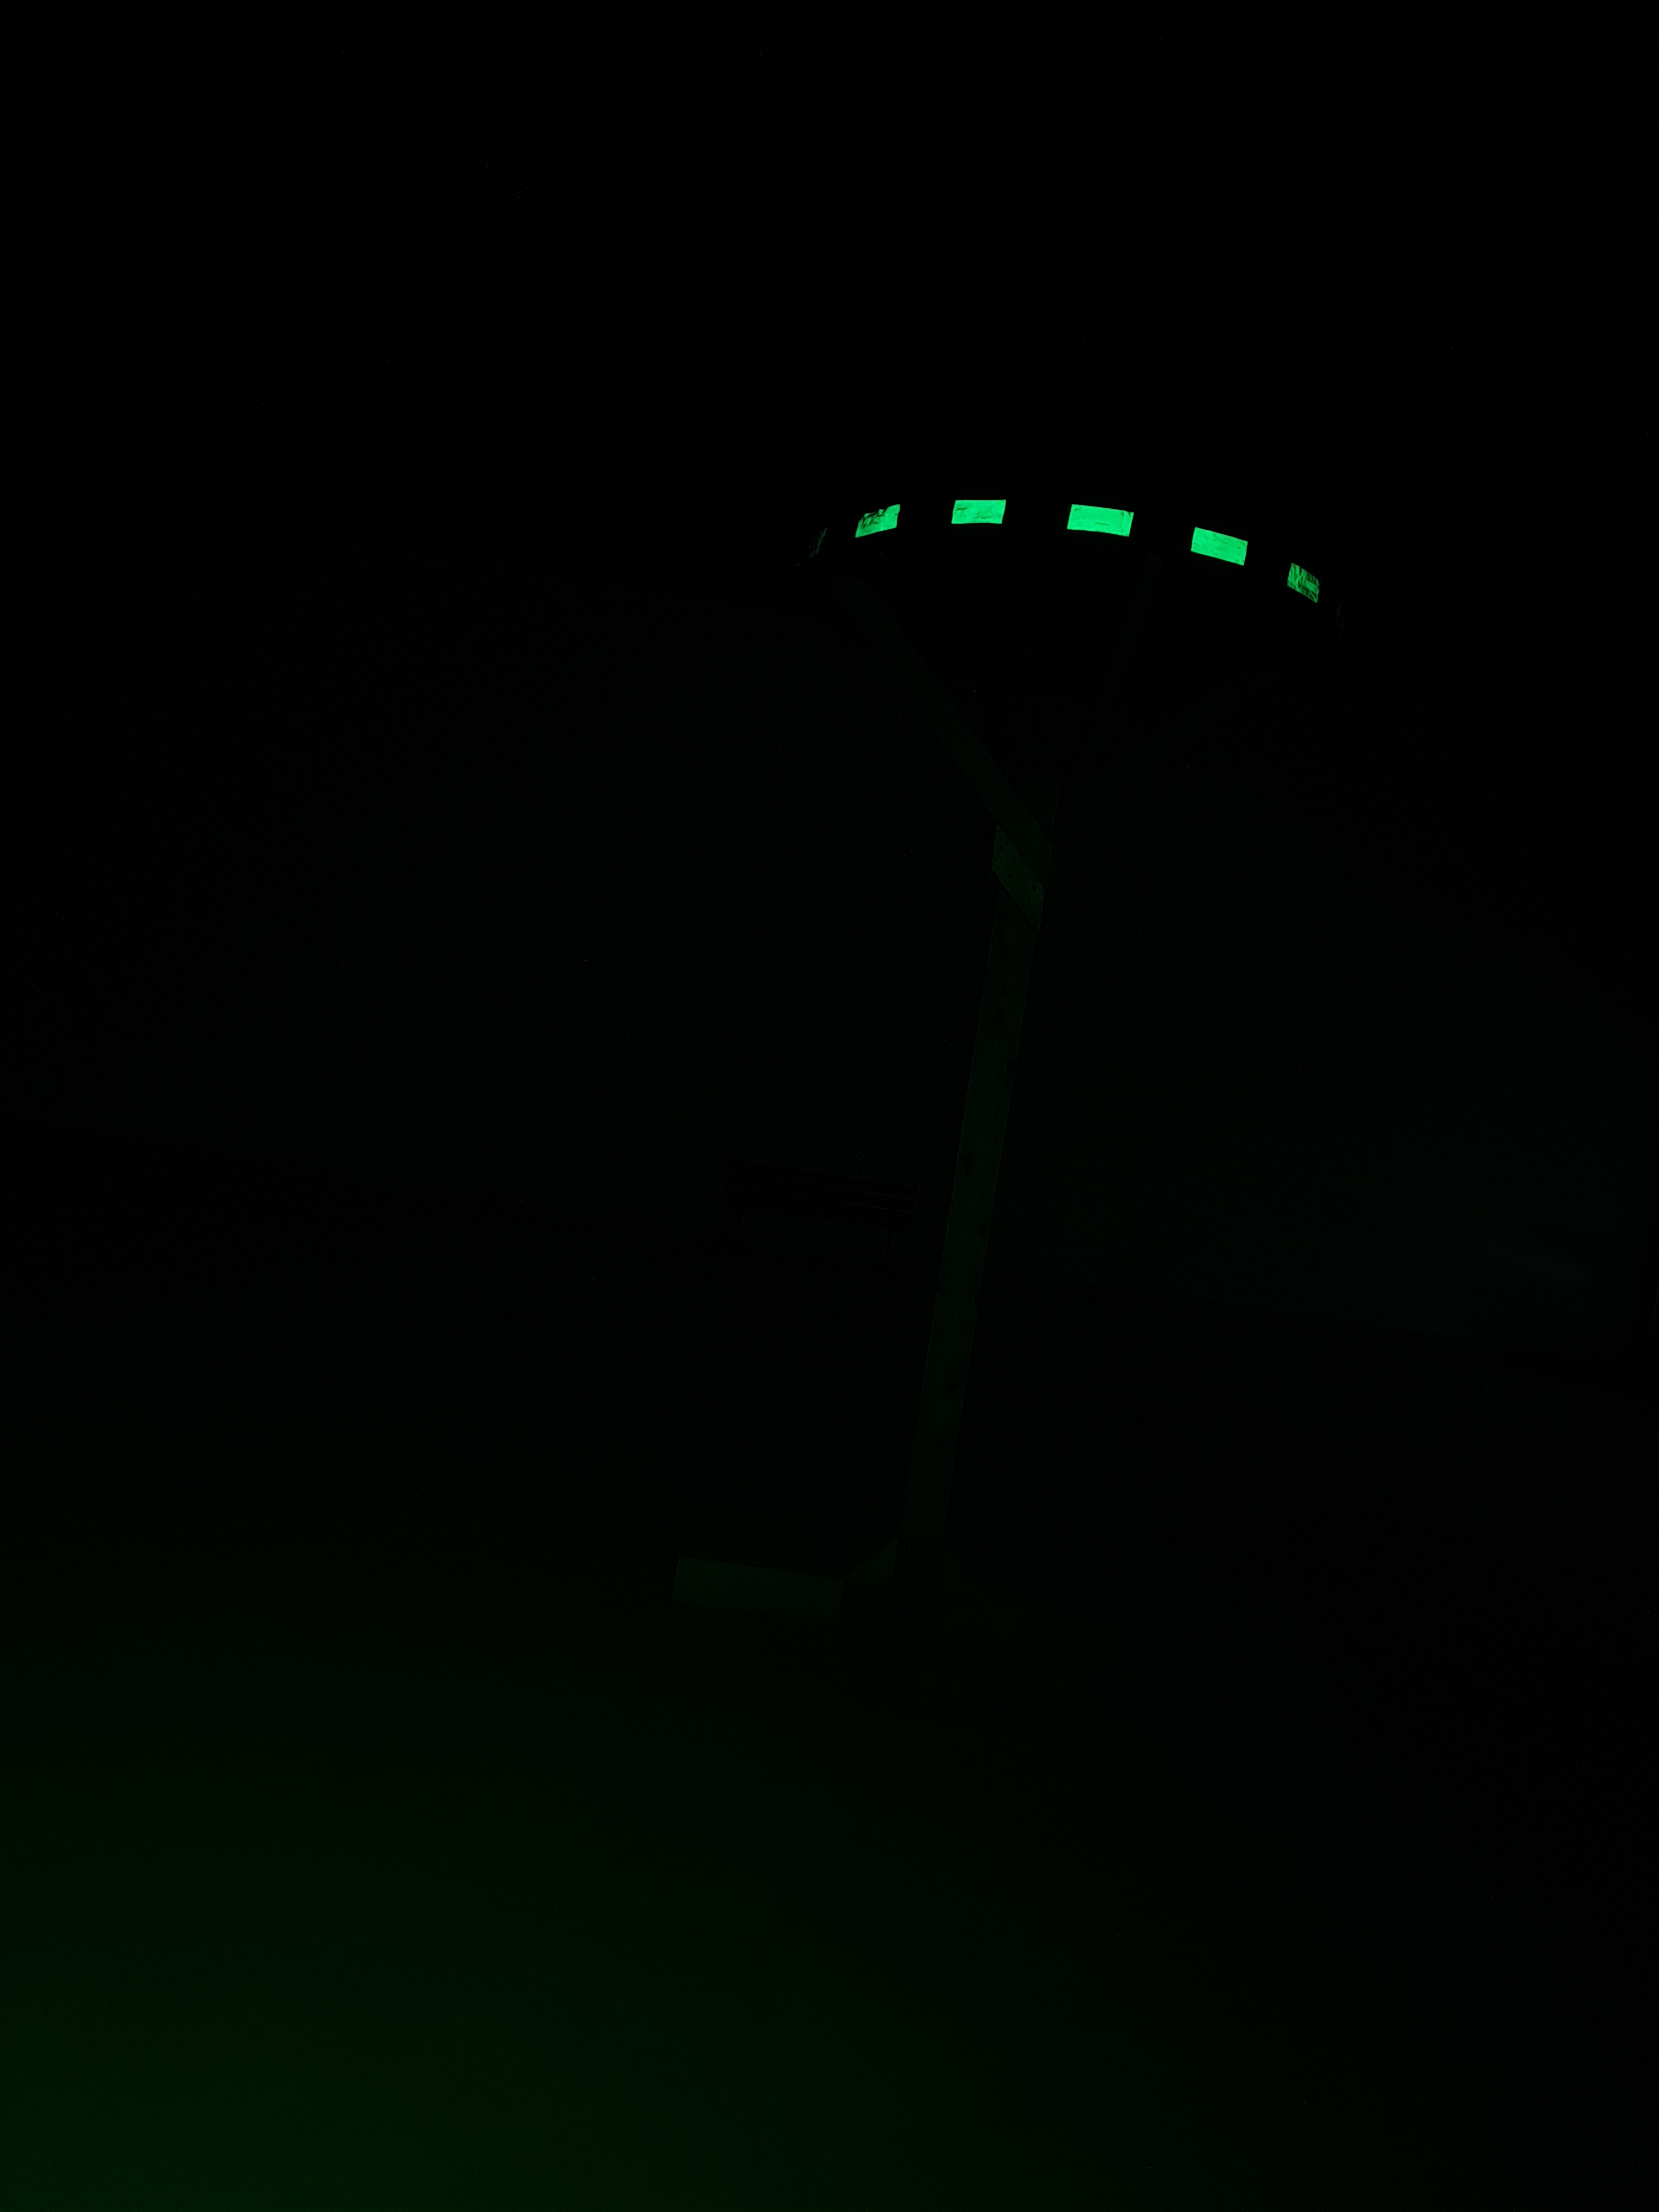hoop: (850, 489, 1323, 610)
